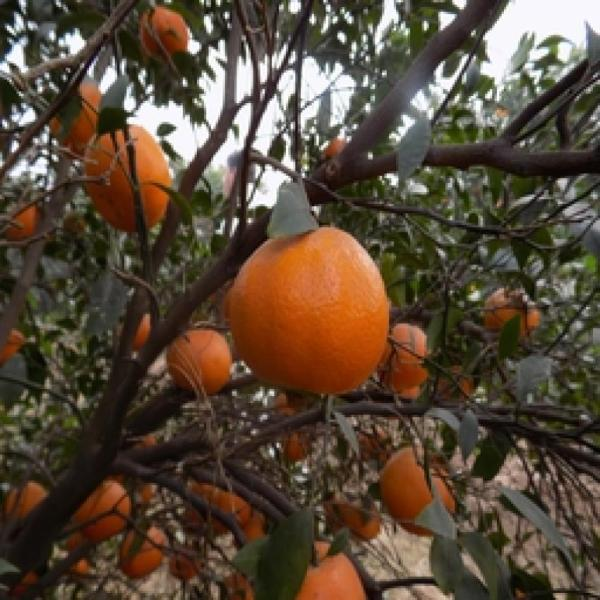Sana: (225, 221, 390, 404), (75, 131, 170, 238), (373, 444, 468, 544), (257, 536, 368, 599), (159, 323, 235, 411), (49, 81, 120, 158), (477, 281, 548, 350), (370, 317, 436, 388), (136, 9, 197, 82), (68, 478, 134, 539), (114, 524, 166, 580), (8, 476, 57, 527), (0, 322, 37, 387), (3, 201, 50, 250), (341, 495, 385, 547), (118, 306, 162, 352), (276, 425, 319, 472), (210, 486, 255, 530), (435, 362, 479, 403), (162, 542, 209, 580), (316, 130, 358, 172), (136, 481, 161, 508)
